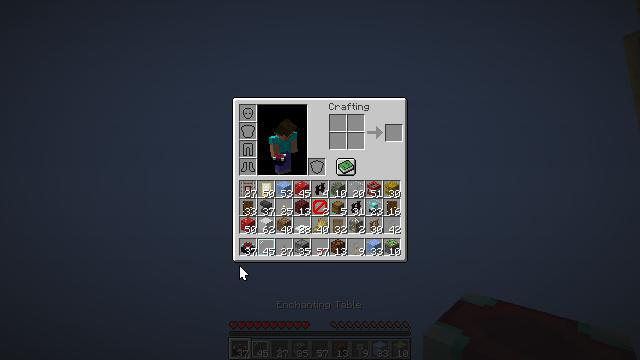cursor: (239, 265, 249, 281)
